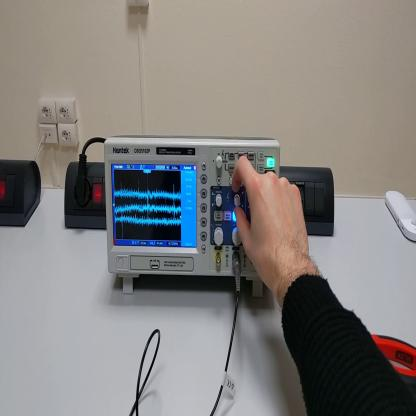hand: (232, 154, 312, 295)
oscilloscope: (105, 137, 281, 300)
pliers: (372, 328, 416, 391)
socket: (64, 158, 108, 234), (1, 156, 44, 231)
